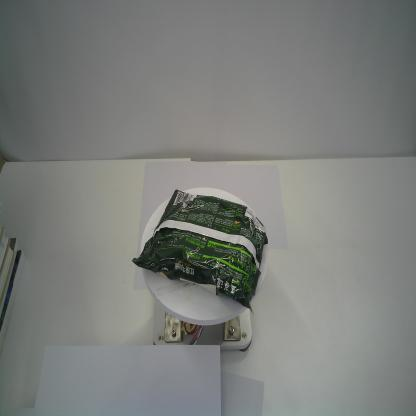Instant Noodles: (131, 187, 270, 318)
